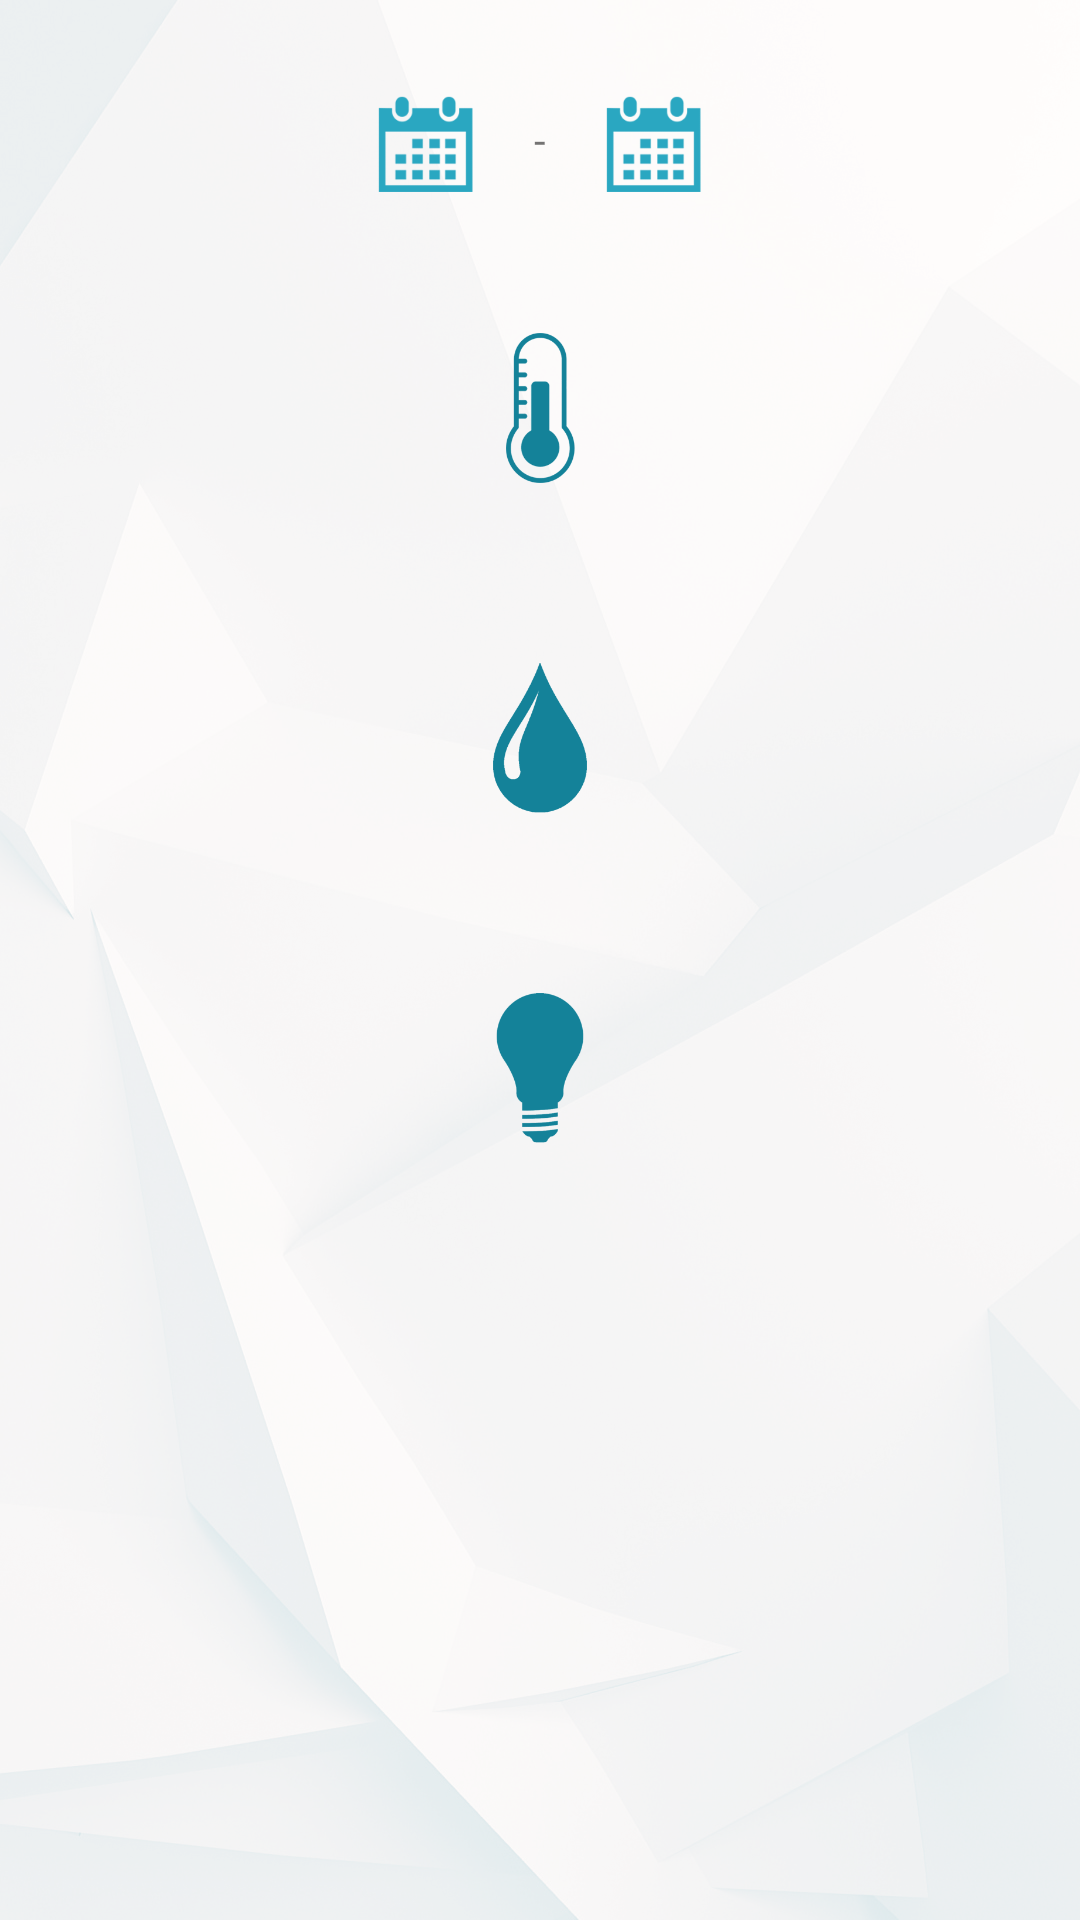

Locate icon controls on the screen. Image size 1080*1920, boxes as (x1, y1, x2, y2).
calendar: (378, 96, 473, 192), (606, 96, 701, 192)
heat: (506, 333, 575, 483)
moisture: (493, 663, 587, 813)
